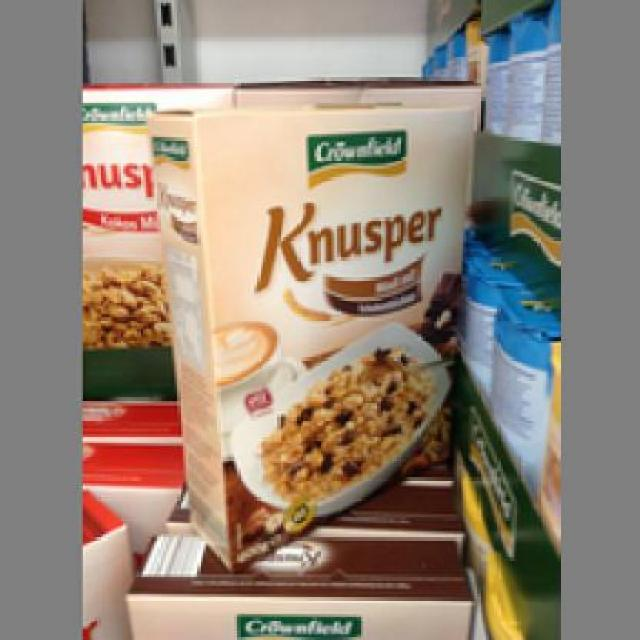Cereal: (142, 97, 475, 574)
